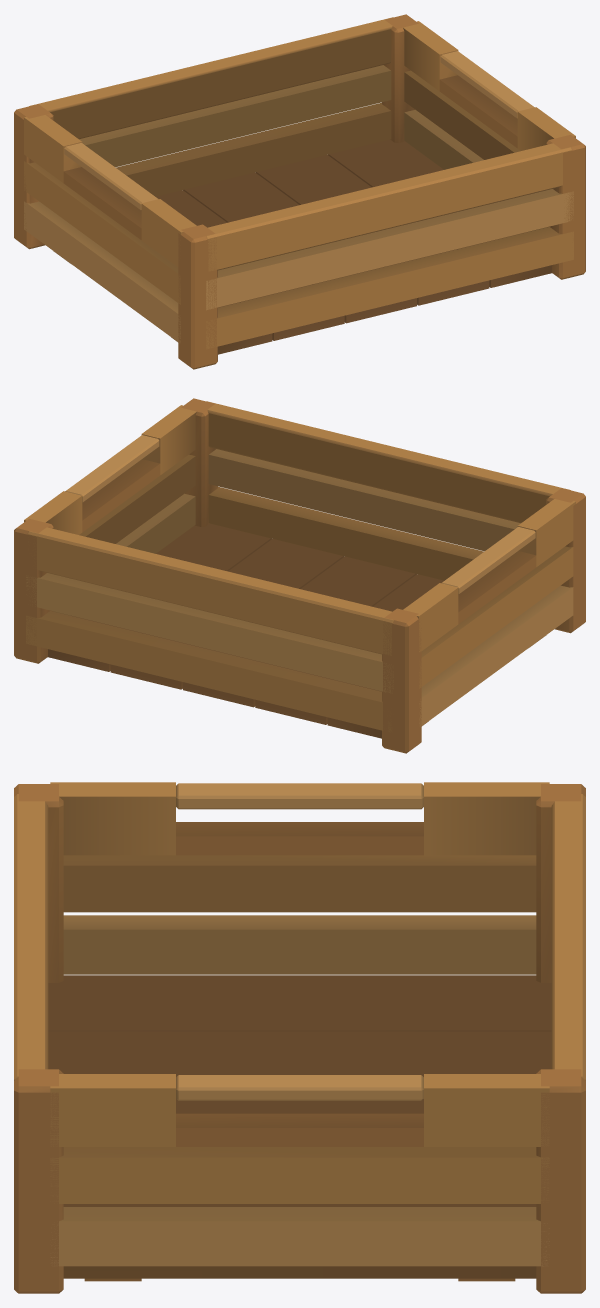
The model's file is Crate.glb.
3 renders of one model, top to bottom at view 1: azimuth 30°, elevation 25°; view 2: azimuth 150°, elevation 25°; view 3: azimuth 270°, elevation 25°, orthographic. The views are drawn at different scales.
Visible parts, largest first — view 1: Harvest_crate; view 2: Harvest_crate; view 3: Harvest_crate.
Boxes of the visible parts, x1,y1,x2,y2 form: Harvest_crate: (14, 14, 585, 369); Harvest_crate: (14, 398, 585, 753); Harvest_crate: (14, 782, 585, 1293).
Bounding box in the file's own units: 1.9 × 0.6 × 1.5.
